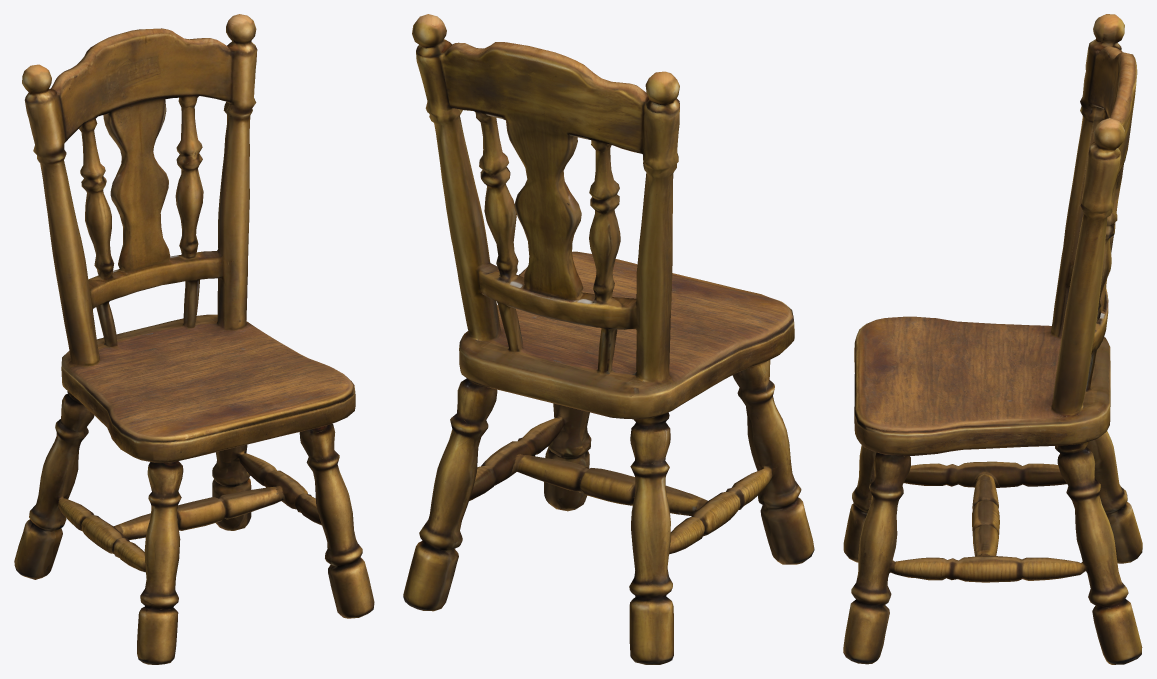
The model's file is Meshy_AI_Wooden_Elegance_0124084145_texture.glb.
The picture shows the model from 3 angles, left to right: view 1: azimuth 30°, elevation 25°; view 2: azimuth 150°, elevation 25°; view 3: azimuth 270°, elevation 25°; orthographic projection. The views are drawn at different scales.
Bounding box in the file's own units: 0.9447 × 2.01 × 0.9993.
1 material, 1 textured.
